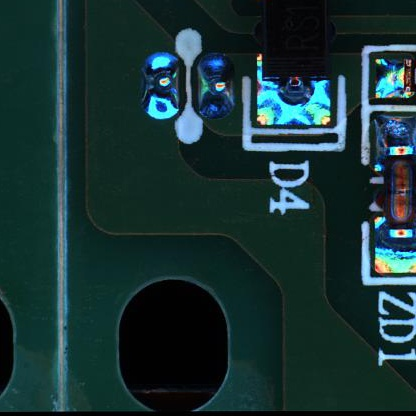spot: (138, 47, 184, 127), (190, 48, 236, 128)
